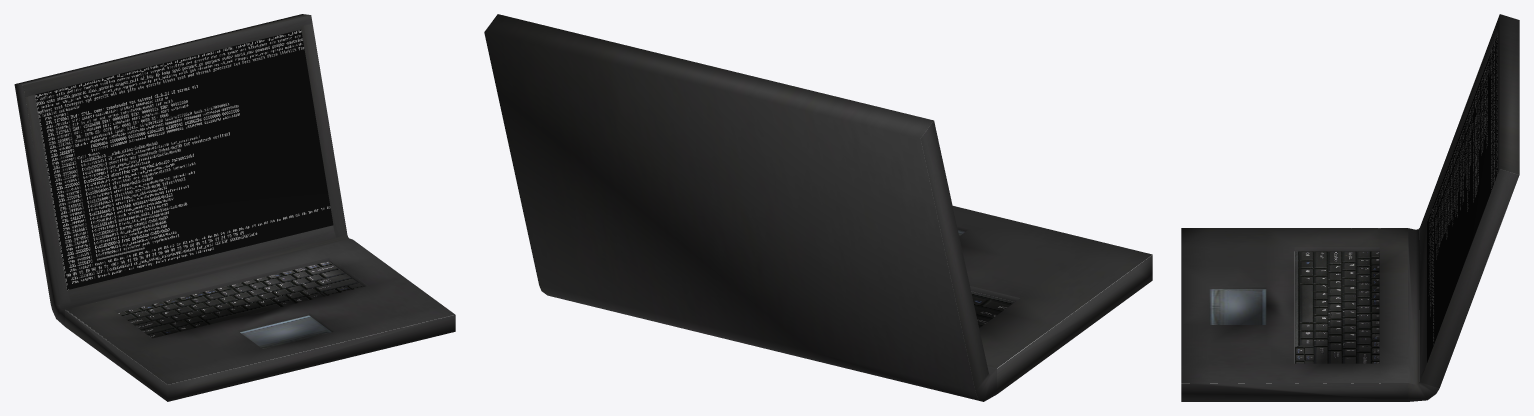
Rendered from console.glb.
3 renders of one model, left to right at view 1: azimuth 30°, elevation 25°; view 2: azimuth 150°, elevation 25°; view 3: azimuth 270°, elevation 25°, orthographic. The views are drawn at different scales.
Parts seen in each view (by area): view 1: CONSOLE; view 2: CONSOLE; view 3: CONSOLE.
Boxes of the visible parts, x1=… form: CONSOLE: x1=14, y1=14, x2=455, y2=401; CONSOLE: x1=484, y1=14, x2=1152, y2=401; CONSOLE: x1=1181, y1=14, x2=1519, y2=401.
Bounding box in the file's own units: 0.6692 × 0.469 × 0.6169.
1 material, 1 textured.
